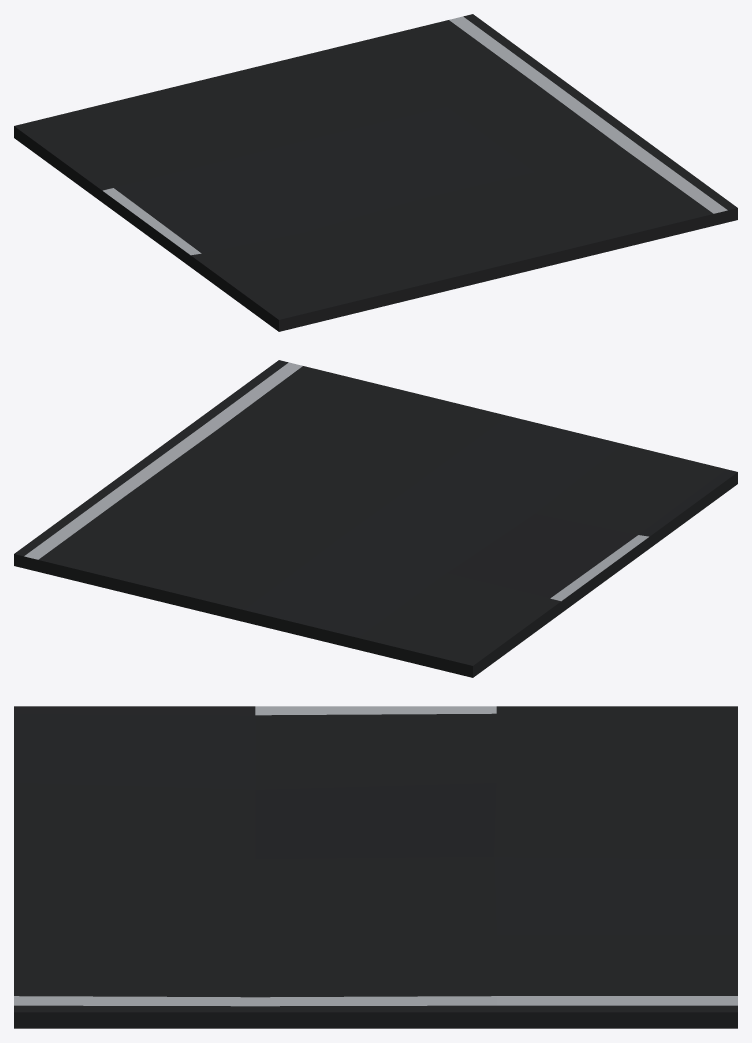
Rendered from Road_006-col.glb.
3 renders of one model, top to bottom at view 1: azimuth 30°, elevation 25°; view 2: azimuth 150°, elevation 25°; view 3: azimuth 270°, elevation 25°, orthographic. The views are drawn at different scales.
Parts seen in each view (by area): view 1: Road_01_C-col; view 2: Road_01_C-col; view 3: Road_01_C-col.
Boxes of the visible parts, x1,y1,x2,y2 form: Road_01_C-col: [14, 14, 737, 331]; Road_01_C-col: [14, 360, 737, 677]; Road_01_C-col: [14, 706, 737, 1028].
Size of the model in its own units: 2 by 0.0569 by 2.
1 material, 1 textured.
